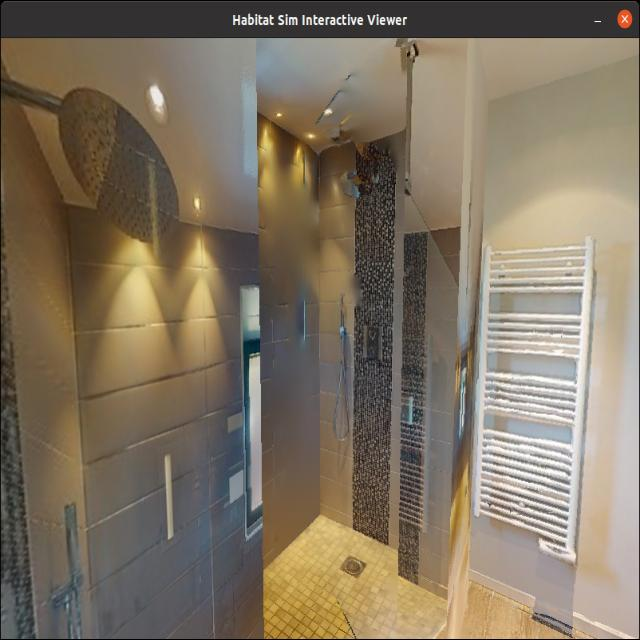shower: (28, 71, 478, 640)
